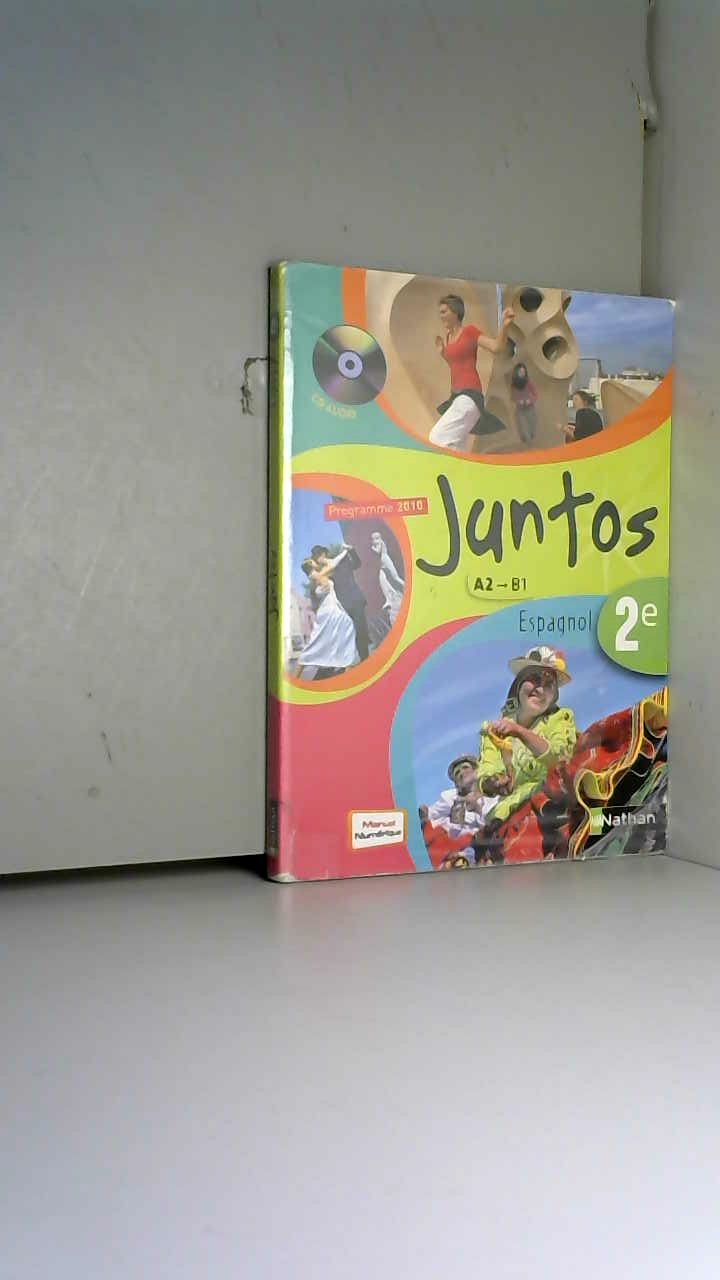book: (230, 230, 715, 905)
